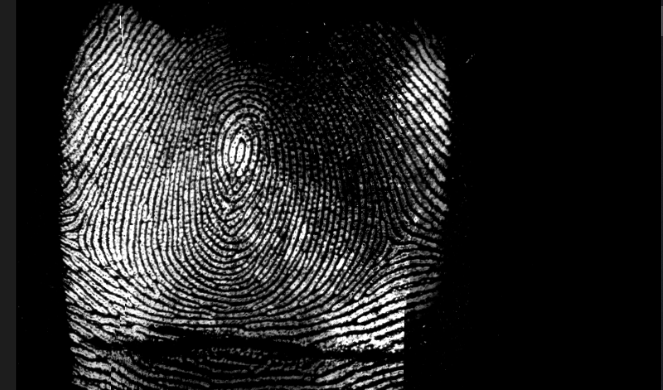nucelo: (225, 128, 247, 169)
verticilo: (62, 225, 91, 252), (383, 239, 413, 258)
